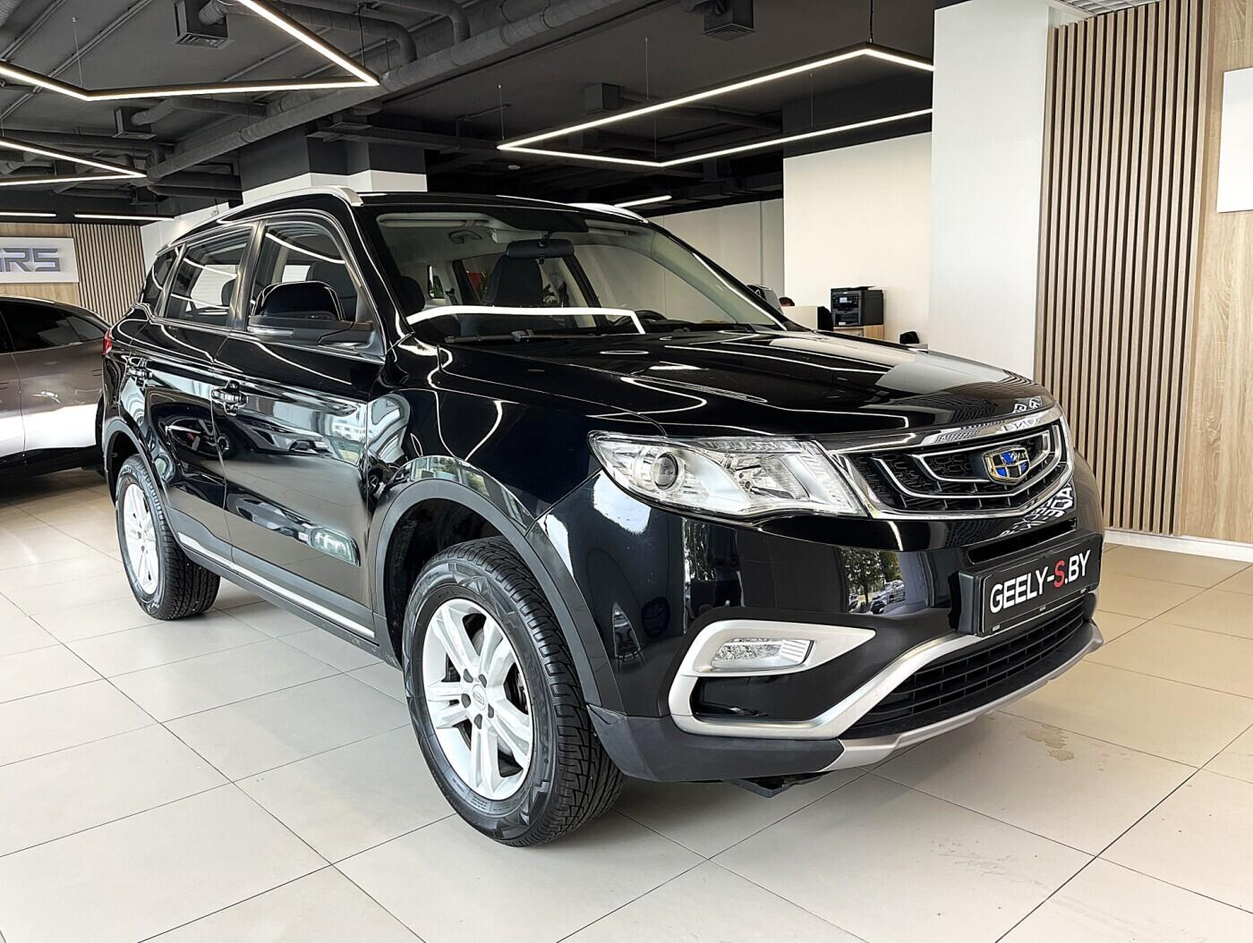Atlas_2016-2023: (92, 183, 1103, 846)
